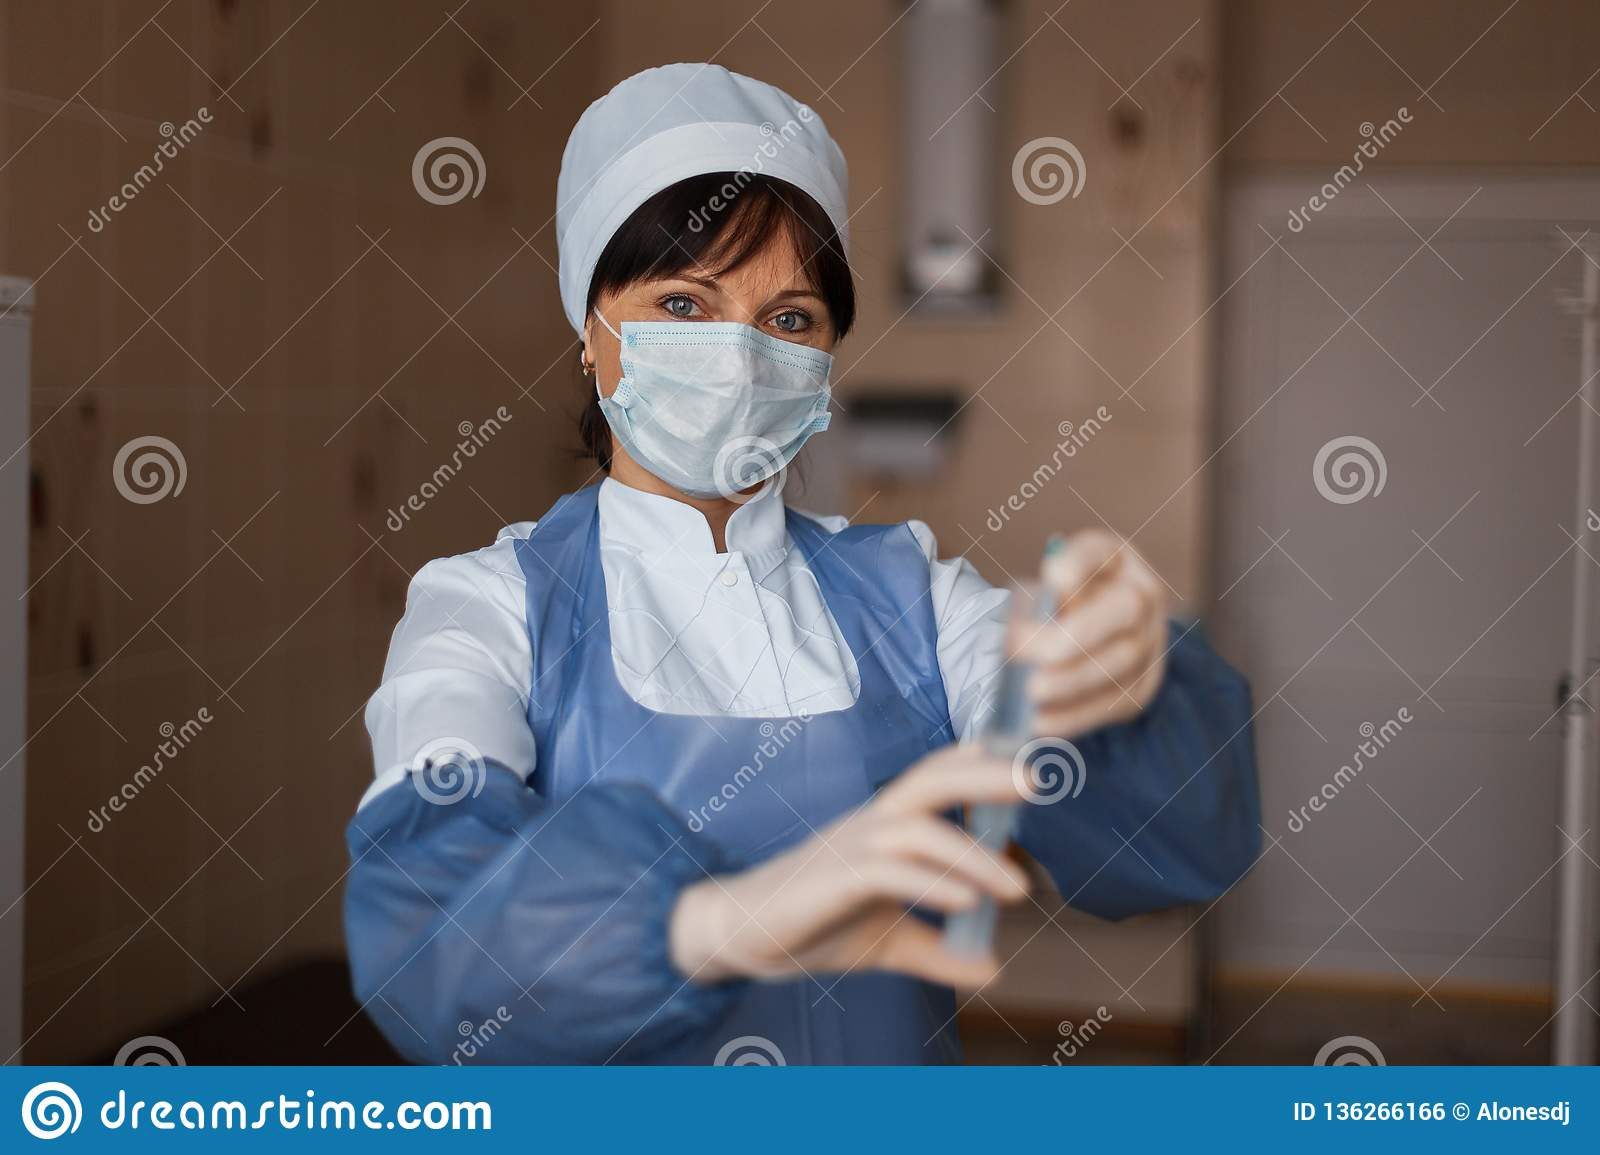mask: (600, 317, 841, 500)
